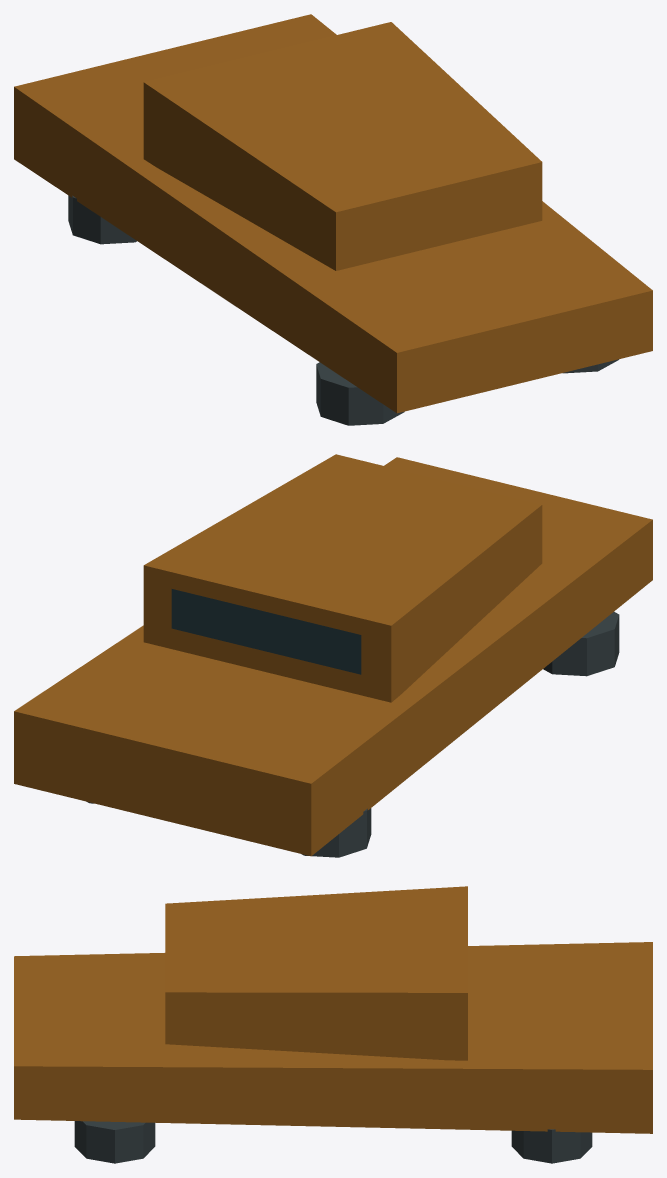
The model's file is hover_vehicle.obj.
The picture shows the model from 3 angles, top to bottom: view 1: azimuth 30°, elevation 25°; view 2: azimuth 150°, elevation 25°; view 3: azimuth 270°, elevation 25°; orthographic projection. The views are drawn at different scales.
Visible parts, largest first — view 1: body, cabin, lift_pod; view 2: body, cabin, front_glass, lift_pod; view 3: body, cabin, lift_pod.
Boxes of the visible parts, bbox=[...] form: body: bbox=[14, 14, 652, 413]; cabin: bbox=[143, 22, 542, 270]; lift_pod: bbox=[68, 195, 619, 425]; body: bbox=[14, 457, 652, 856]; cabin: bbox=[143, 454, 542, 702]; front_glass: bbox=[171, 589, 361, 674]; lift_pod: bbox=[86, 612, 619, 857]; body: bbox=[14, 942, 652, 1133]; cabin: bbox=[165, 886, 467, 1060]; lift_pod: bbox=[74, 1121, 592, 1163].
Bounding box in the file's own units: 1.8 × 1.06 × 3.8.
